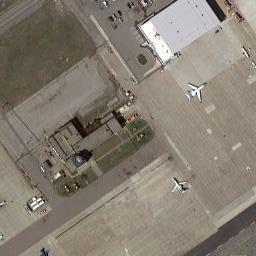plane: (180, 78, 208, 107)
